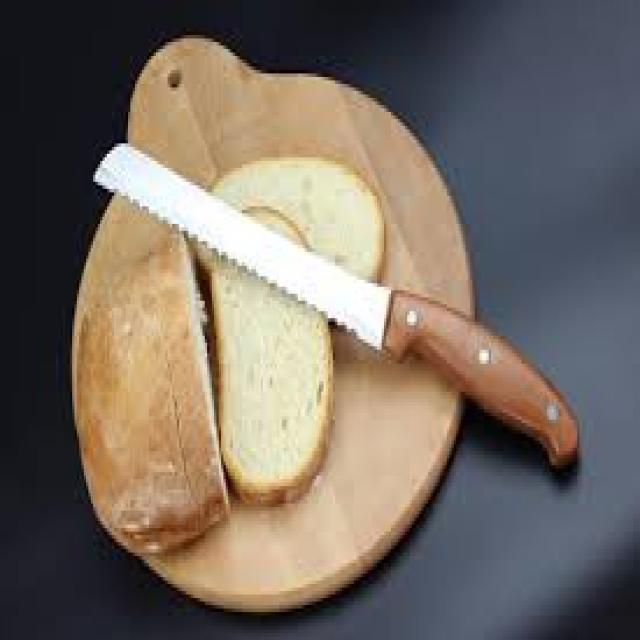Knife: (93, 140, 579, 462)
